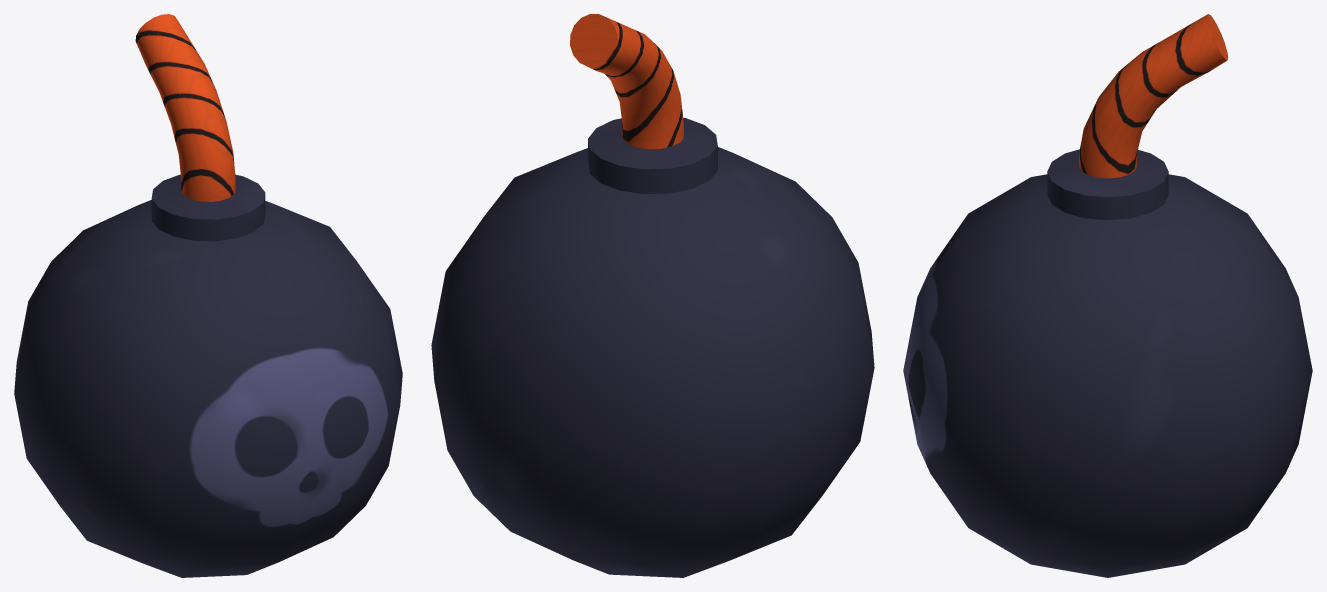
The model's file is bomb.obj.
3 views of the same model, side by side, from view 1: azimuth 30°, elevation 25°; view 2: azimuth 150°, elevation 25°; view 3: azimuth 270°, elevation 25° (orthographic). The views are drawn at different scales.
Visible parts, largest first — view 1: Object_2; view 2: Object_2; view 3: Object_2.
Part boxes in pixels (x1,y1,x2,y2): Object_2: (14, 14, 402, 577); Object_2: (431, 14, 874, 577); Object_2: (903, 14, 1312, 577).
Size of the model in its own units: 0.739 by 1.08 by 0.739.
1 material, 1 textured.
